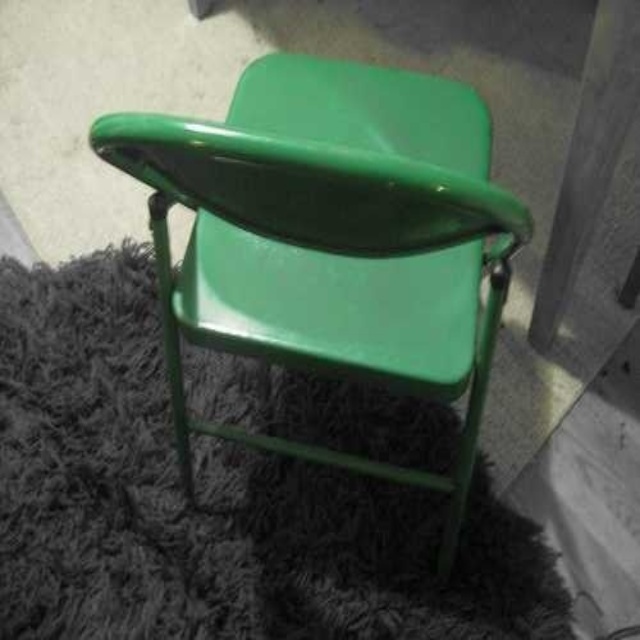obstacle: (90, 55, 531, 570)
